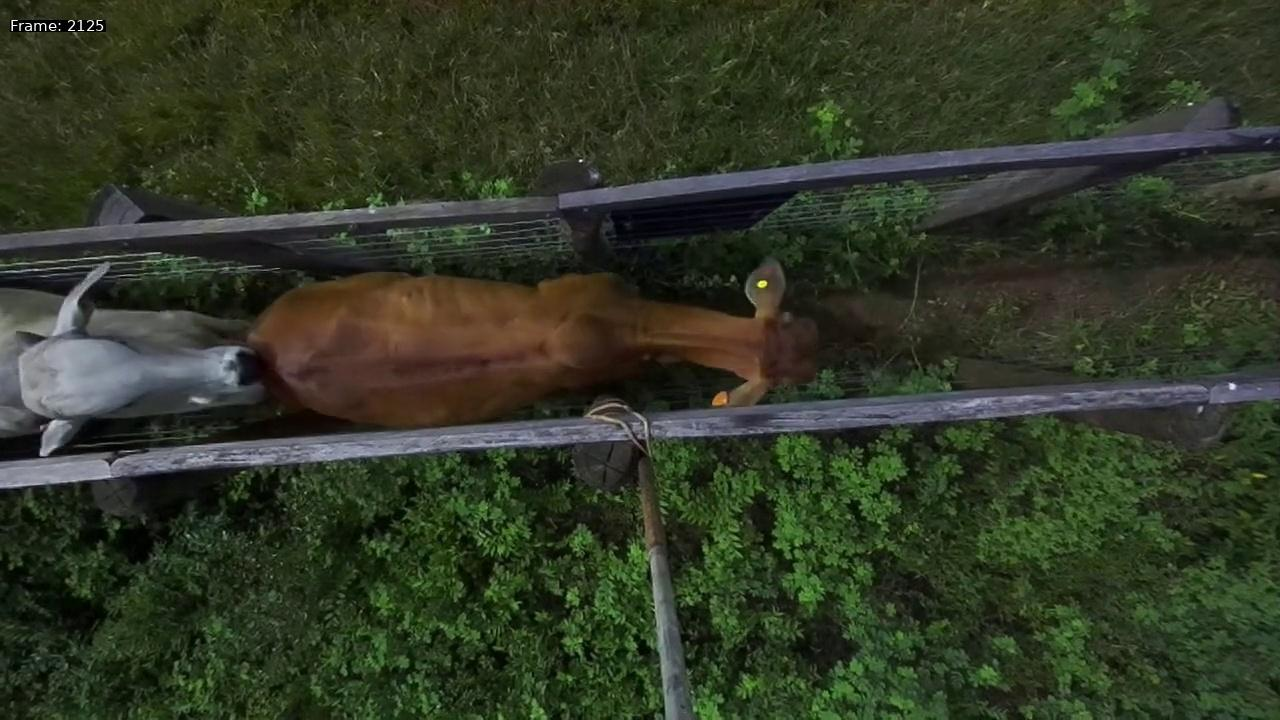cattle: (234, 240, 840, 434)
